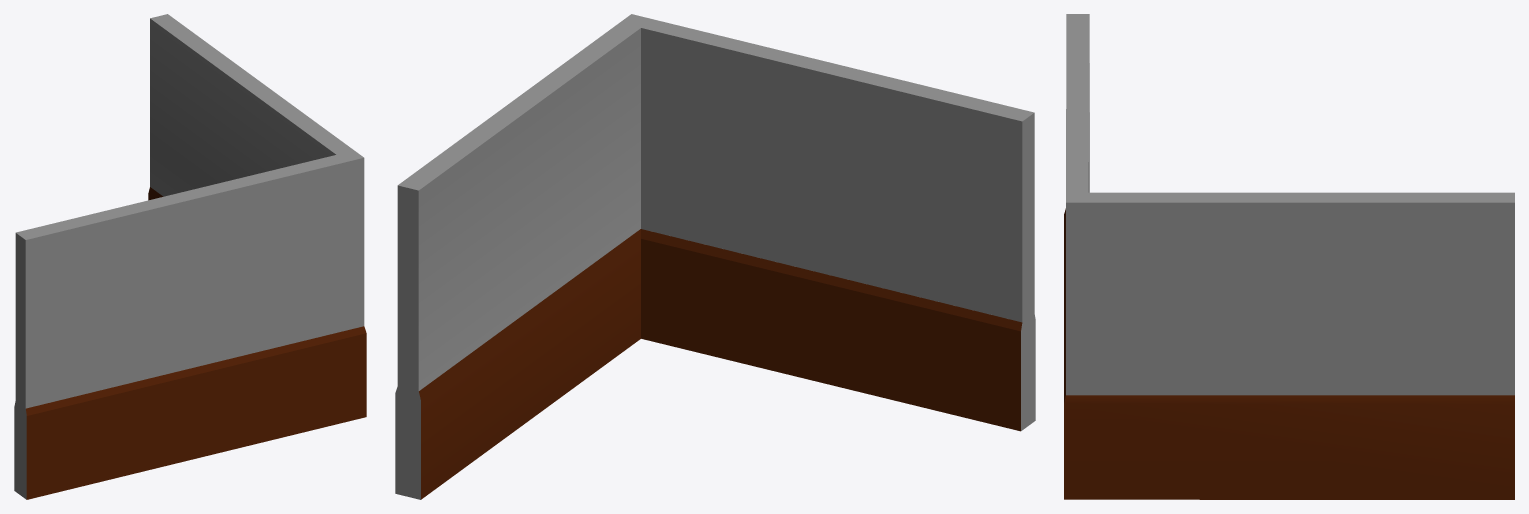
File: Basic_Wall2Mat_Angle.FBX
3 views of the same model, side by side, from view 1: azimuth 30°, elevation 25°; view 2: azimuth 150°, elevation 25°; view 3: azimuth 270°, elevation 25° (orthographic). The views are drawn at different scales.
Parts seen in each view (by area): view 1: WallPart1, WallPart2; view 2: WallPart1, WallPart2; view 3: WallPart2, WallPart1.
Part boxes in pixels (x1=…): WallPart1: x1=14, y1=155, x2=366, y2=499; WallPart2: x1=148, y1=14, x2=363, y2=200; WallPart1: x1=632, y1=14, x2=1035, y2=431; WallPart2: x1=395, y1=14, x2=640, y2=499; WallPart2: x1=1064, y1=192, x2=1514, y2=499; WallPart1: x1=1064, y1=14, x2=1089, y2=402.
Size of the model in its own units: 316 by 230 by 317.
